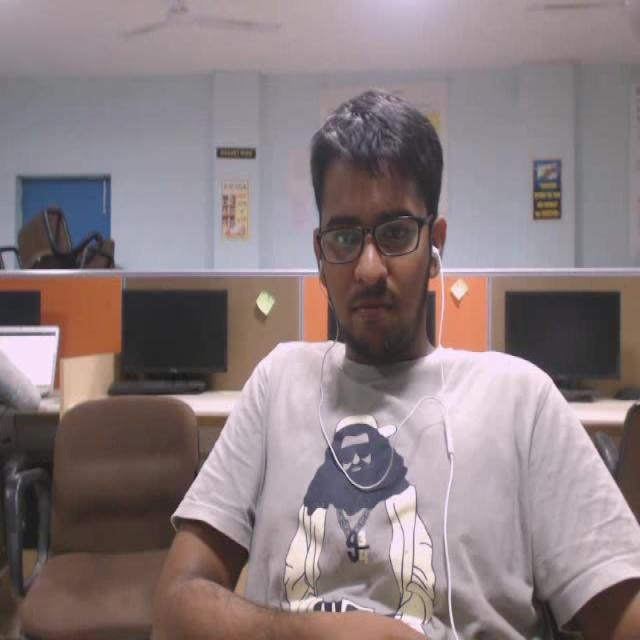Engaged: (258, 97, 504, 373)
